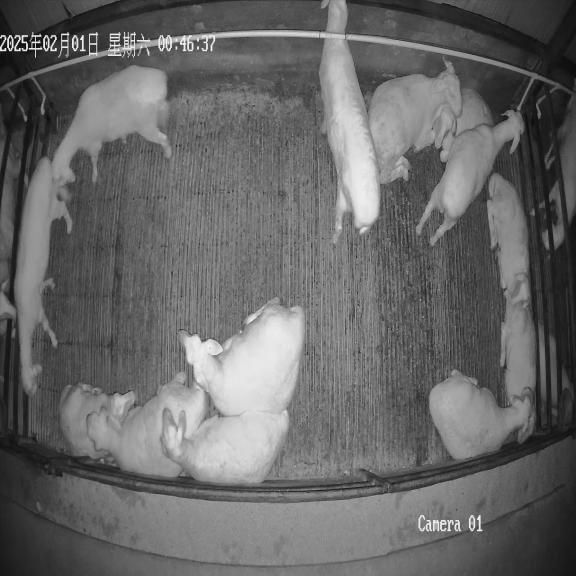lying: (368, 58, 492, 184), (180, 298, 305, 415), (14, 157, 72, 395), (88, 372, 208, 477), (161, 410, 289, 484), (429, 370, 534, 460), (487, 174, 530, 303), (59, 383, 112, 459), (500, 297, 536, 404)
stand: (52, 66, 171, 200), (319, 0, 380, 244), (416, 110, 524, 246)
